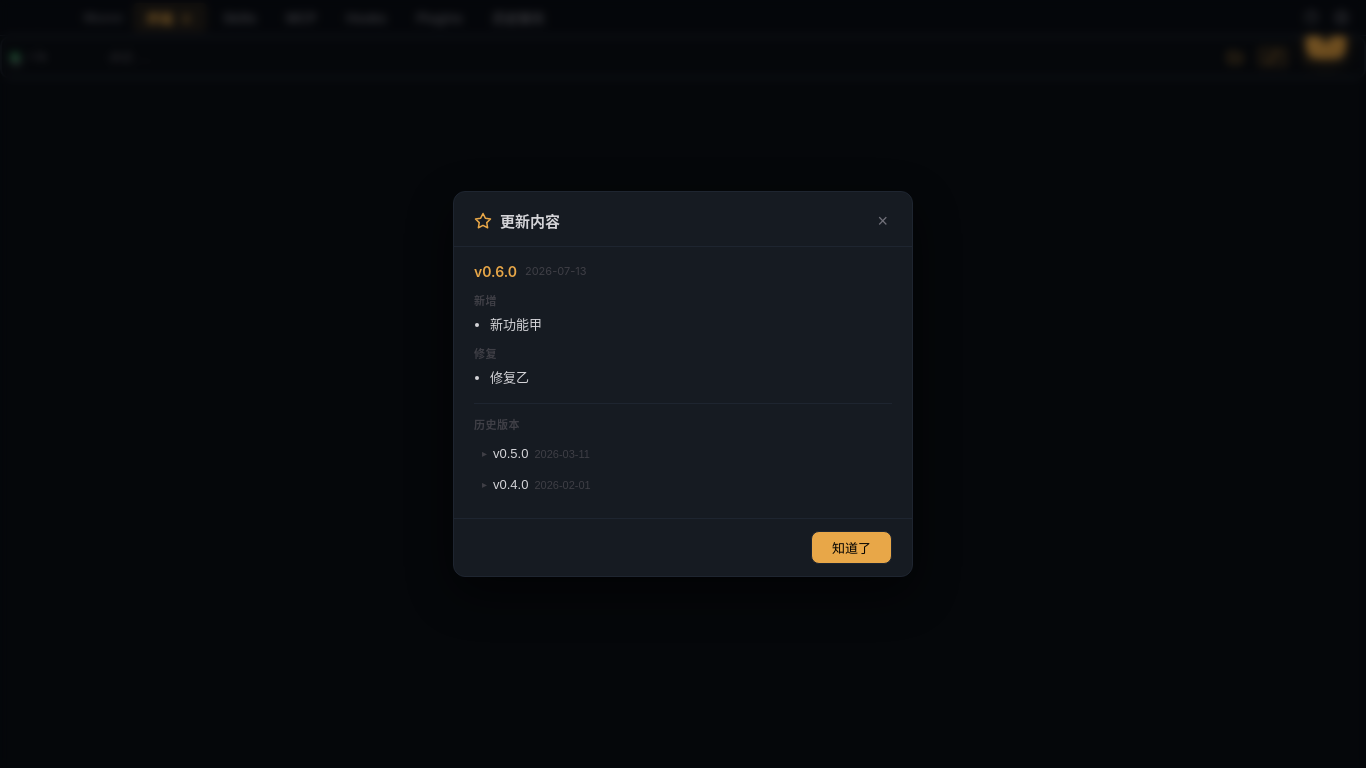
Test: What's New live（auto-update.md §7；whats-new-modal.md） › UPD_whatsnew_history：历史版本默认全折叠、点 toggle 展开；「知道了」关闭；空 entries → 空态文案
Check: the text with class "whats-new__older-title" reads "历史版本", box [474, 418, 520, 432]
Click the button with class "whats-new__older-toggle" showing "▸ v0.5.0 2026-03-11".
click(562, 454)  # box [474, 440, 892, 467]
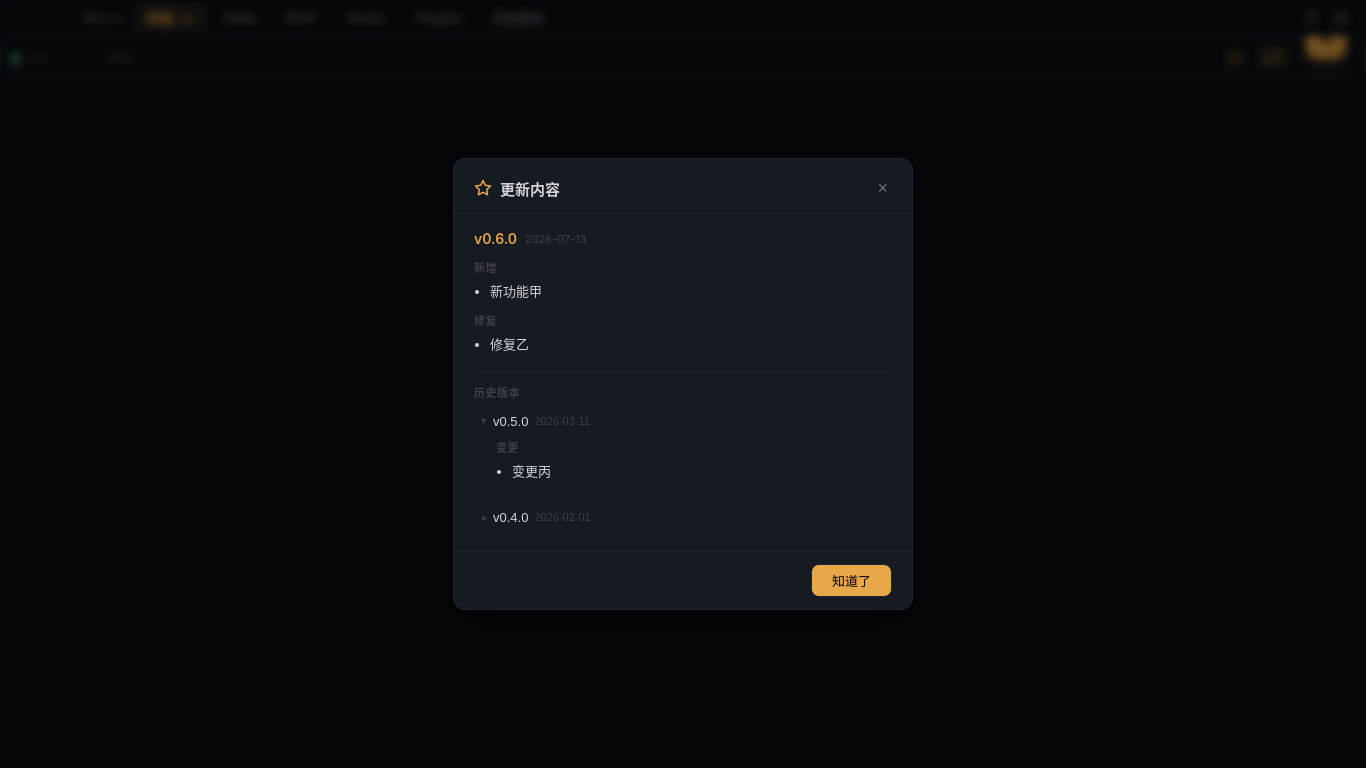
Check: the number of elements with class "whats-new__older-content" is 1, box [496, 441, 551, 479]
Check: the element with class "whats-new__older-content" shows "变更丙", box [512, 463, 551, 479]
Click the button with class "whats-new__older-toggle" showing "▸ v0.5.0 2026-03-11".
click(562, 421)  # box [474, 408, 892, 435]
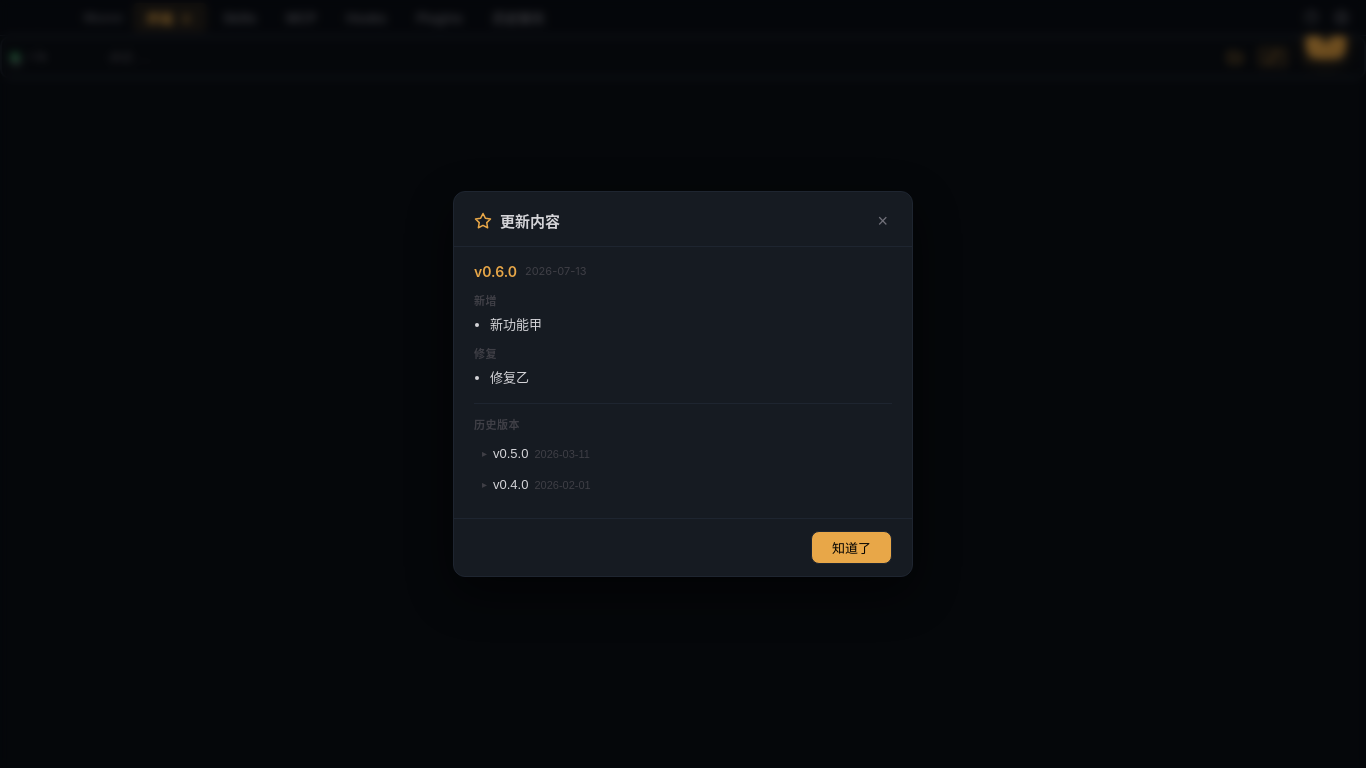
Check: no elements with class "whats-new__older-content" are shown
Click the button with class "whats-new__dismiss".
click(852, 548)  # box [811, 531, 892, 564]
Wait 2000 ms
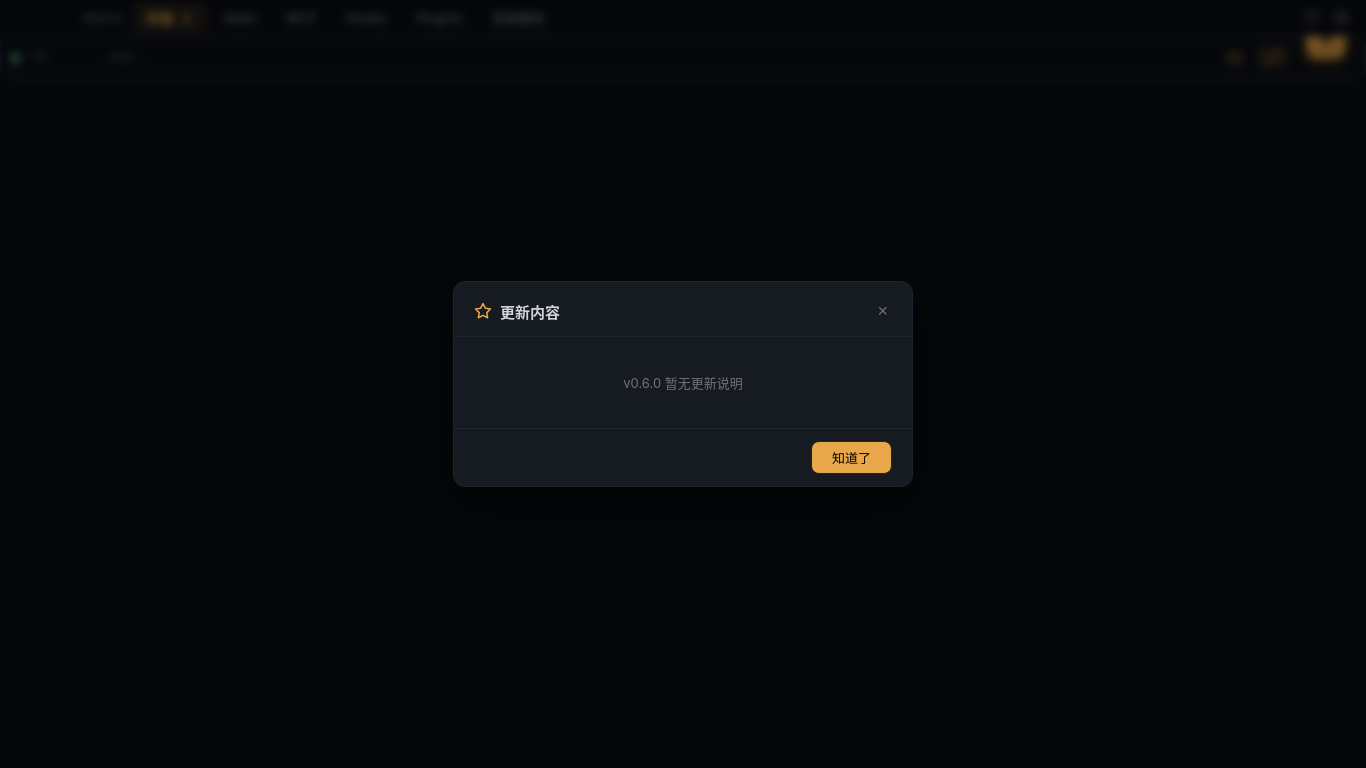
Check: the text with class "whats-new__empty" reads "v0.6.0 暂无更新说明", box [623, 375, 743, 391]
